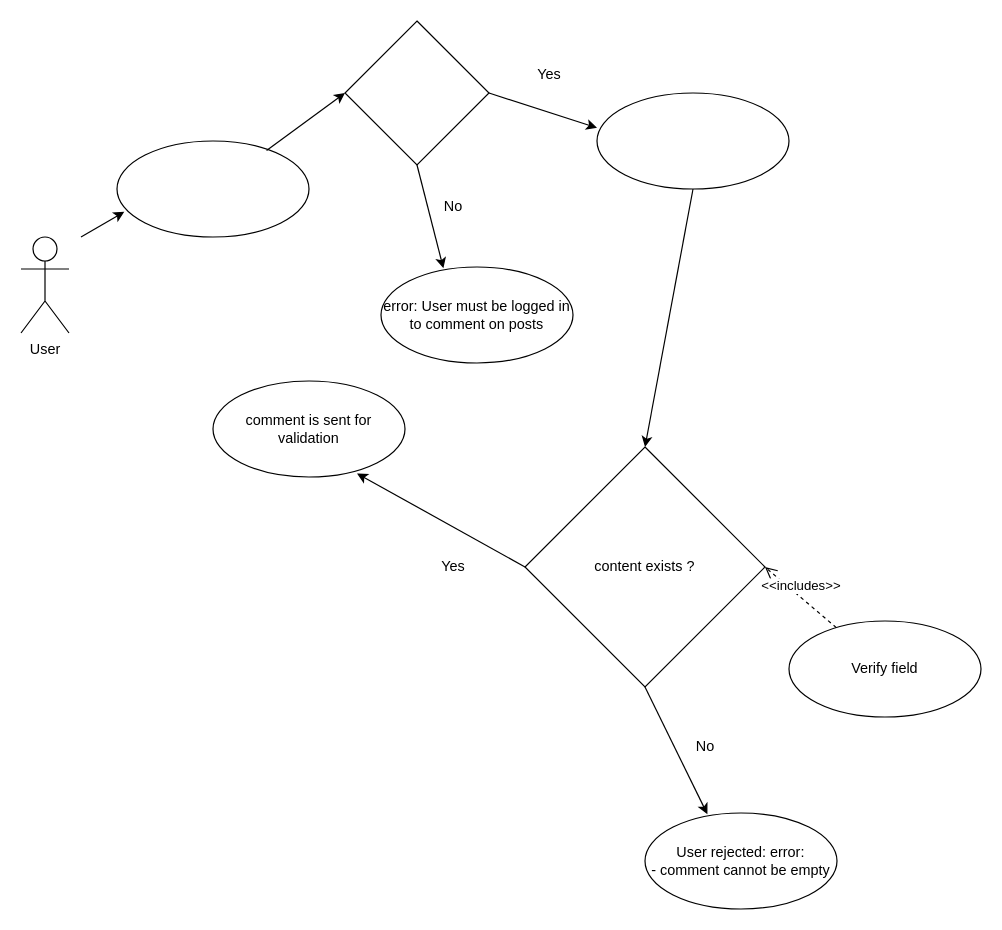
The diagram is 1002 pixels wide and 930 high, and some of its shapes have lost their labels. The shapes that lost their labels are listed below. From the top down, each one's centre as x and y in pixels, then its label:
At (416,92): "User is logged in ?".
At (692,140): "Fills the fields: - content".
At (212,188): "Click on the Comment Post Button".
